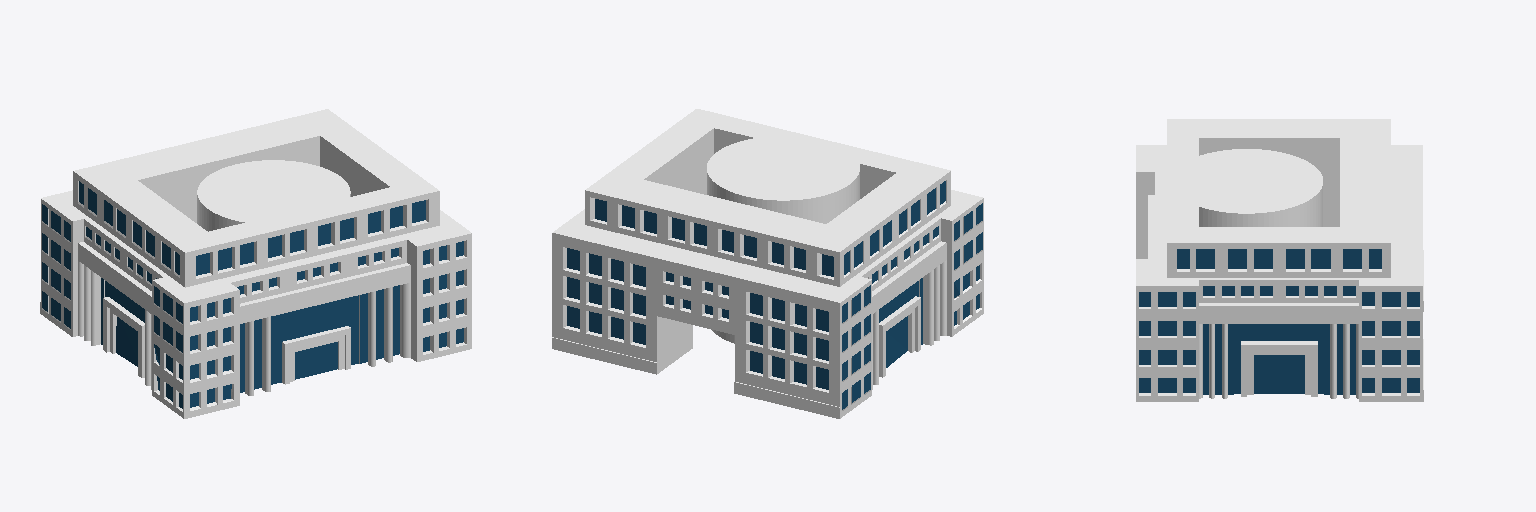
The model's file is mgs.obj.
3 renders of one model, left to right at view 1: azimuth 30°, elevation 25°; view 2: azimuth 150°, elevation 25°; view 3: azimuth 270°, elevation 25°, orthographic.
Visible parts, largest first — view 1: ____01; view 2: ____01; view 3: ____01.
Boxes of the visible parts, <box> form: ____01: <box>40,109,471,418</box>; ____01: <box>552,109,983,418</box>; ____01: <box>1136,119,1423,401</box>.
Bounding box in the file's own units: 18.22 × 9.1 × 15.82.